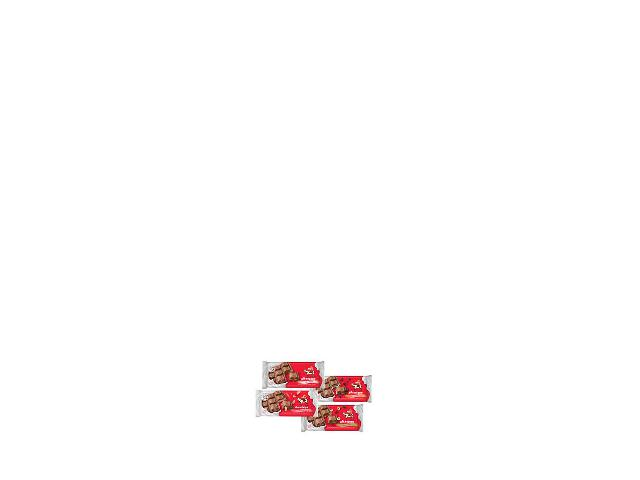chocolate: (297, 398, 368, 435)
